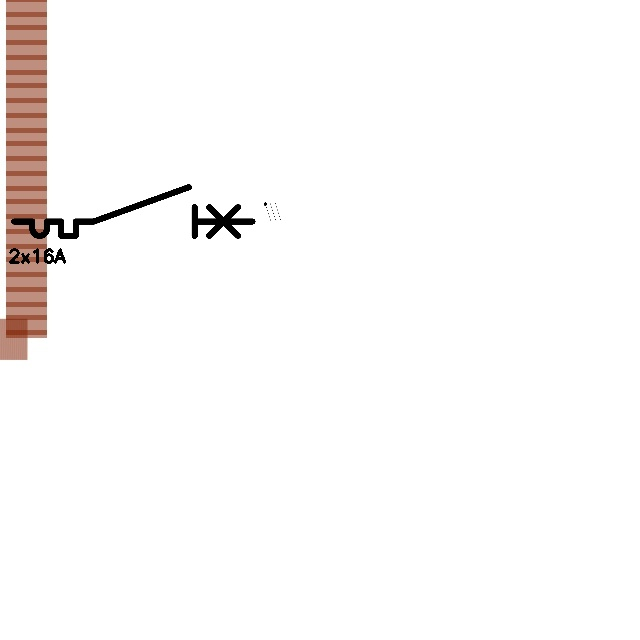interruptor_termomagnetico: (8, 181, 259, 242)
